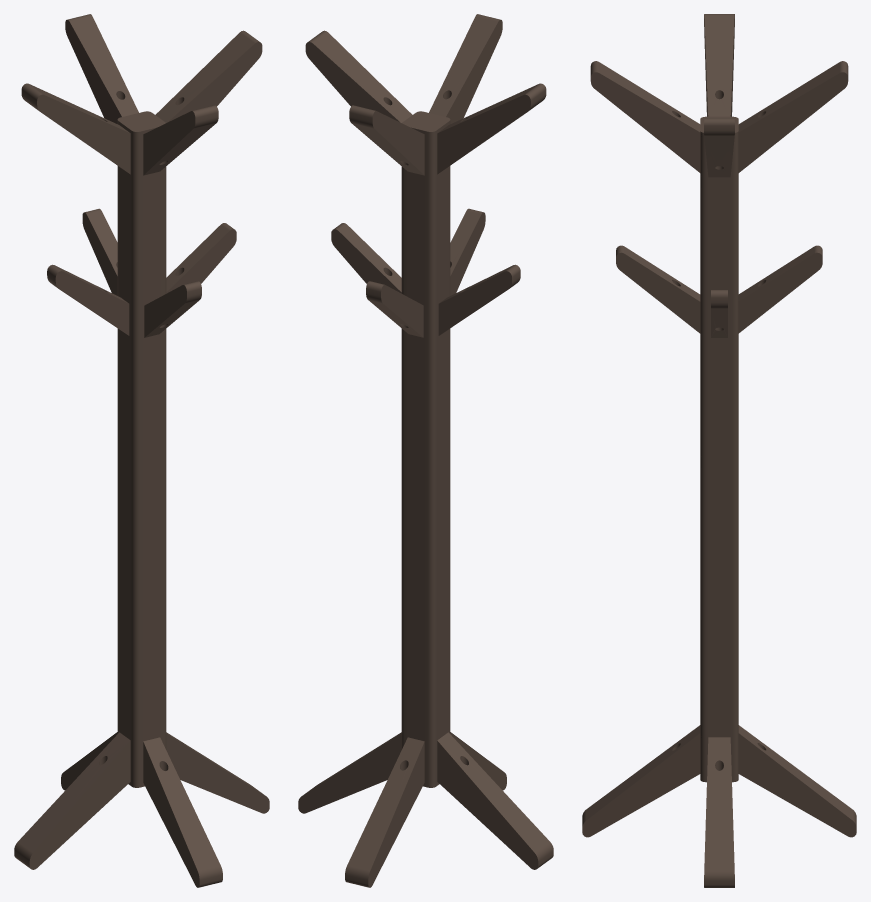
File: PorteManteau1_6.fbx
The picture shows the model from 3 angles, left to right: view 1: azimuth 30°, elevation 25°; view 2: azimuth 150°, elevation 25°; view 3: azimuth 270°, elevation 25°; orthographic projection.
Visible parts, largest first — view 1: polySurface47, polySurface48, polySurface50, polySurface51, polySurface49; view 2: polySurface47, polySurface48, polySurface50, polySurface49, polySurface51; view 3: polySurface47, polySurface51, polySurface49, polySurface50.
Part boxes in pixels (x1=…): polySurface47: x1=14, y1=14, x2=269, y2=887; polySurface48: x1=47, y1=264, x2=129, y2=335; polySurface50: x1=166, y1=223, x2=236, y2=293; polySurface51: x1=144, y1=281, x2=201, y2=337; polySurface49: x1=82, y1=208, x2=117, y2=295; polySurface47: x1=298, y1=14, x2=553, y2=887; polySurface48: x1=438, y1=264, x2=520, y2=335; polySurface50: x1=331, y1=223, x2=401, y2=293; polySurface49: x1=366, y1=281, x2=423, y2=337; polySurface51: x1=450, y1=208, x2=485, y2=295; polySurface47: x1=582, y1=14, x2=856, y2=887; polySurface51: x1=616, y1=245, x2=700, y2=333; polySurface49: x1=738, y1=245, x2=822, y2=333; polySurface50: x1=711, y1=290, x2=727, y2=337.
Bounding box in the file's own units: 20.49 × 63.05 × 20.49.
